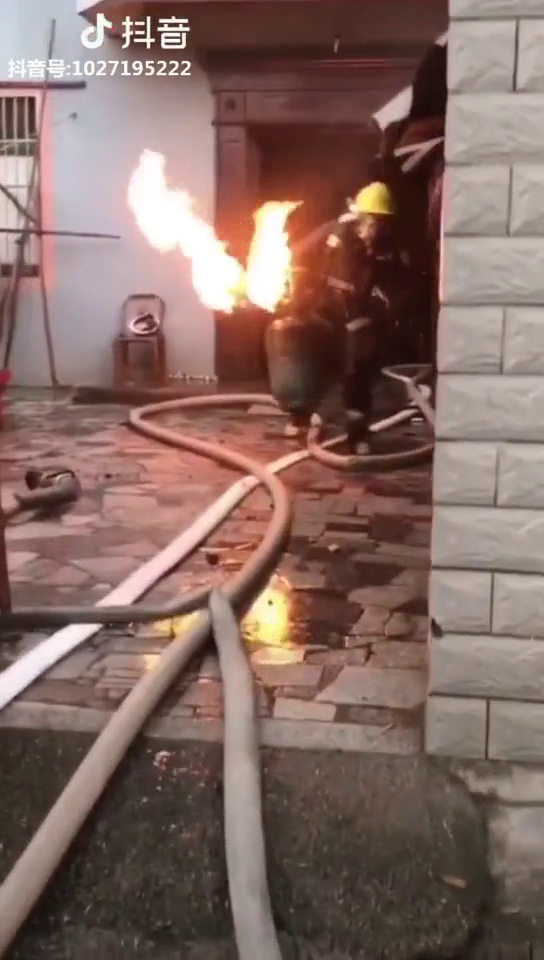fire: (122, 155, 297, 313)
